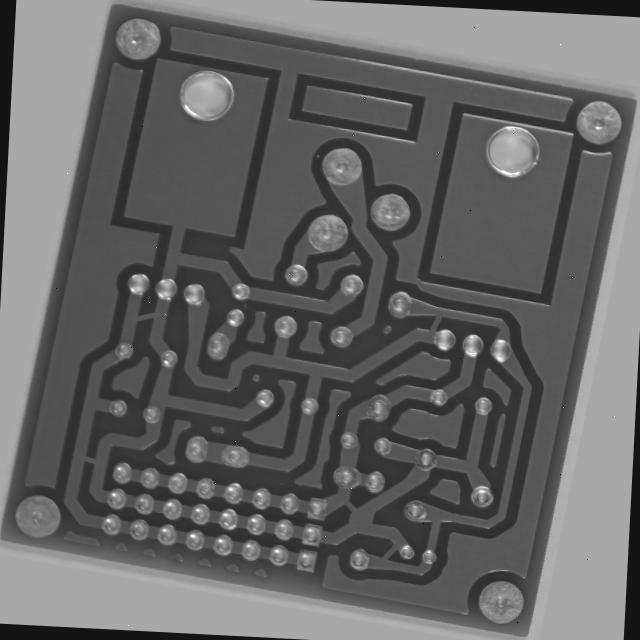short: (96, 320, 146, 357), (61, 487, 109, 524), (366, 499, 410, 539), (423, 543, 462, 584), (436, 286, 469, 326)
